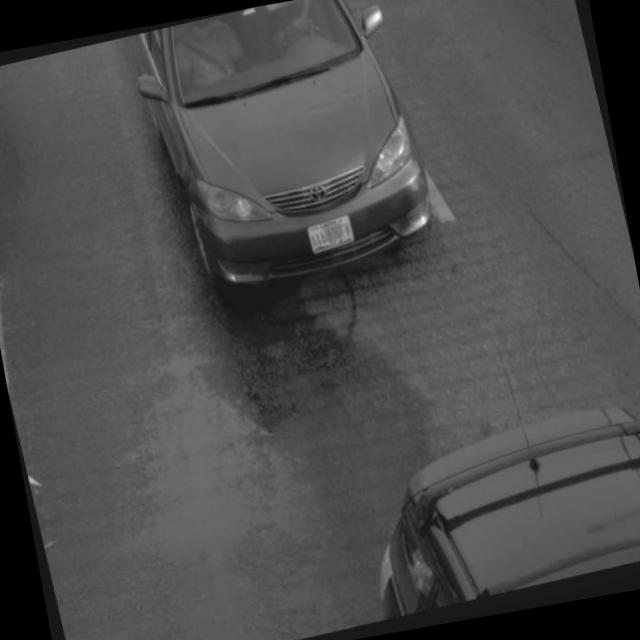person_with_seatbelt: (257, 0, 331, 75)
